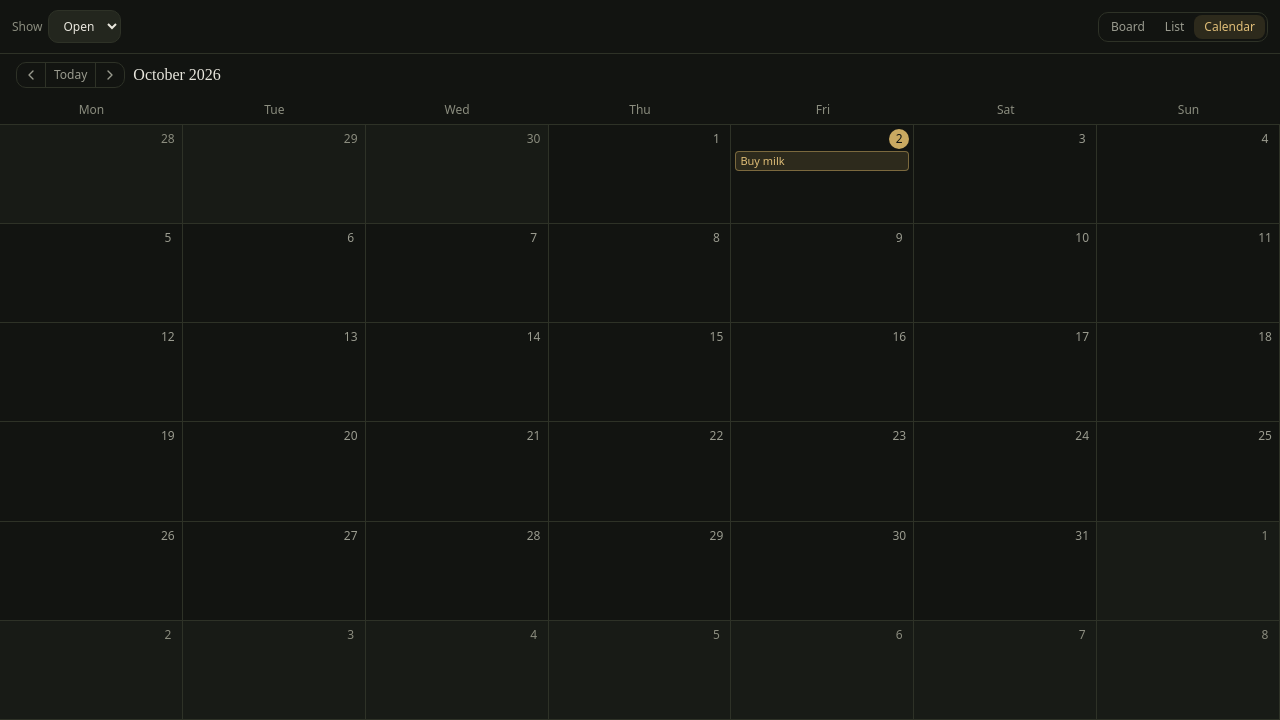
BoardView representations (#767) › places dated cards in the Calendar month grid and navigates months
The width and height of the screenshot is (1280, 720).
Expected: the button "Buy milk" is shown, x1=735 y1=151 x2=909 y2=171
Expected: the button "File taxes" is not shown
What coordinates should you click on to do the following:
click the button named "Next month"
I would click on:
 (110, 75)
Its box is x1=96 y1=63 x2=124 y2=87.
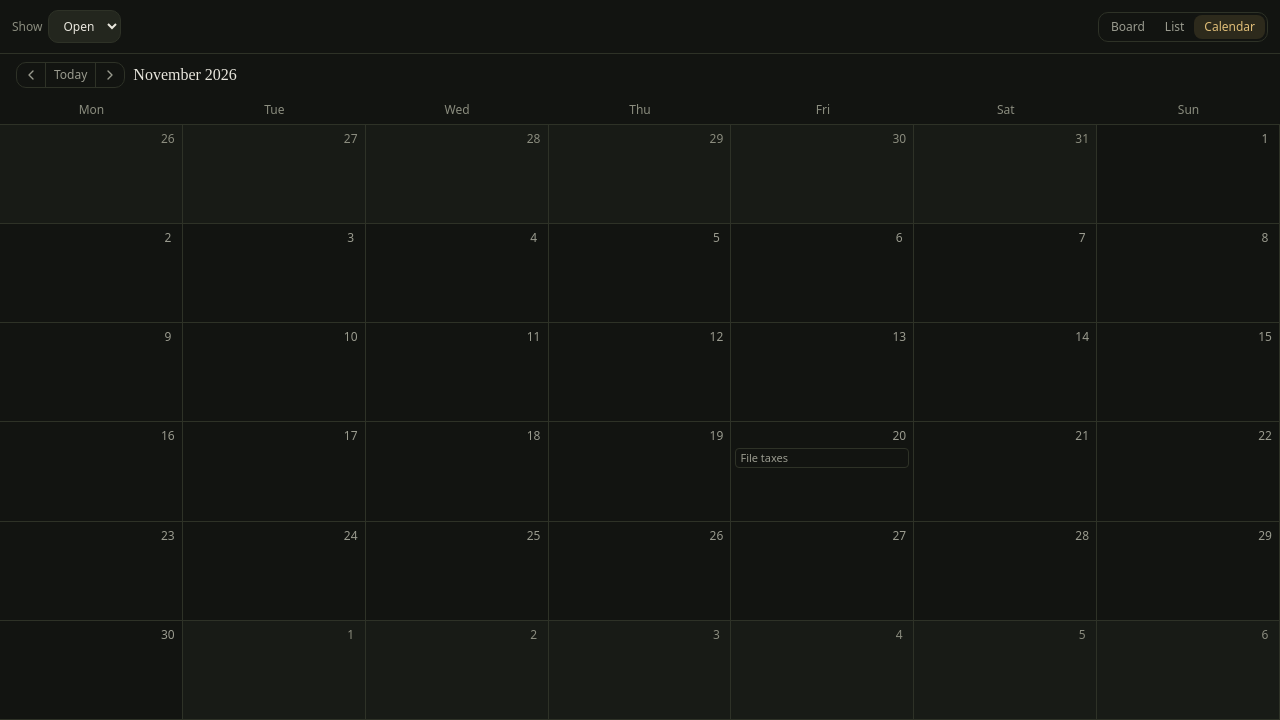
Now the button "File taxes" is shown, box x1=735 y1=448 x2=909 y2=468
